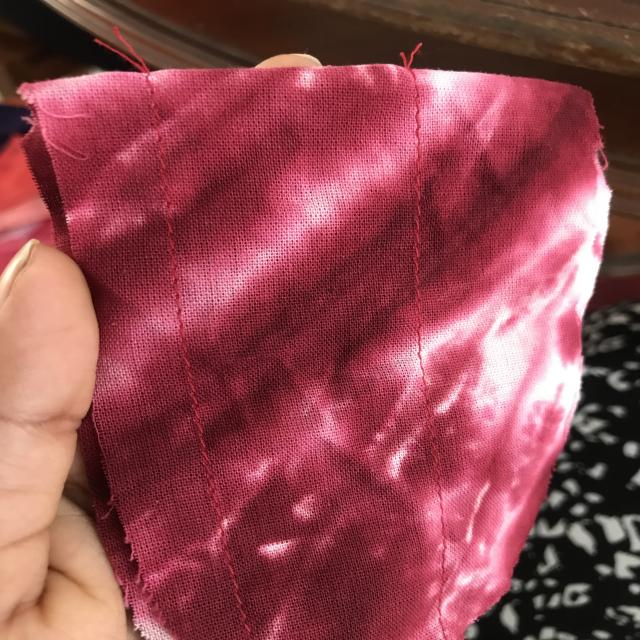good: (215, 551, 257, 598), (407, 106, 440, 158)
